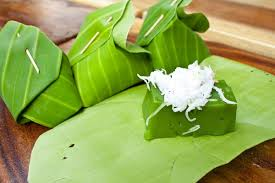kanompiakpoon: (137, 59, 242, 144)
